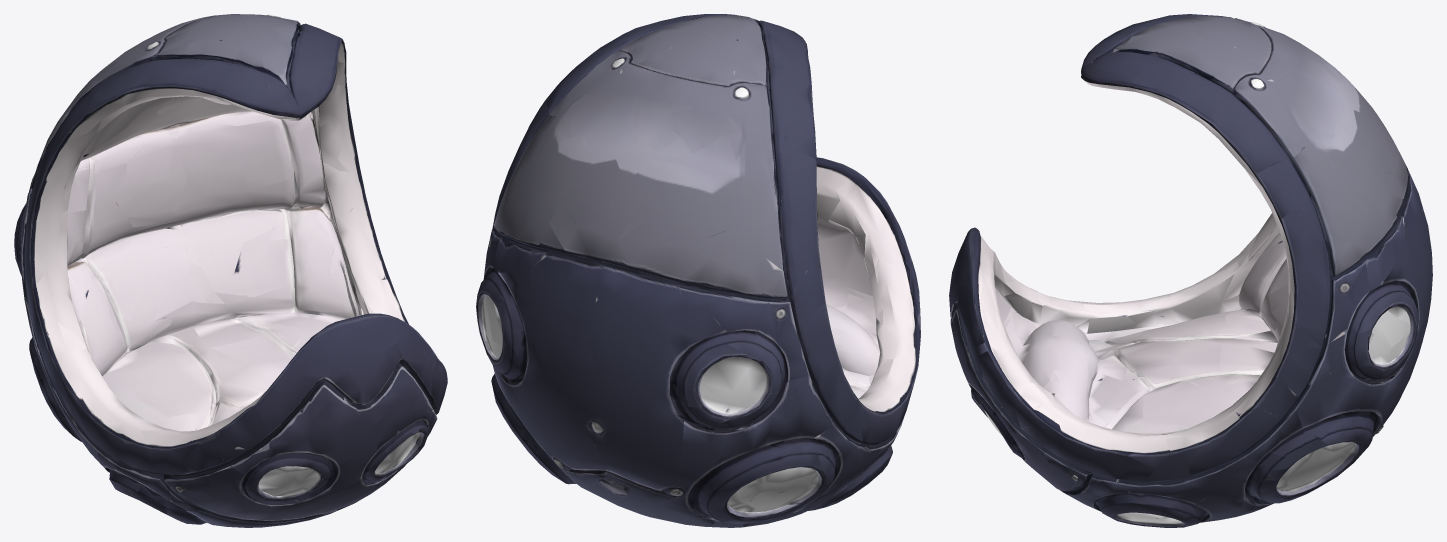
Rendered from id-mount.fbx.
3 renders of one model, left to right at view 1: azimuth 30°, elevation 25°; view 2: azimuth 150°, elevation 25°; view 3: azimuth 270°, elevation 25°, orthographic. The views are drawn at different scales.
Visible parts, largest first — view 1: id_mount; view 2: id_mount; view 3: id_mount.
Boxes of the visible parts, x1,y1,x2,y2 form: id_mount: (14,14,447,527); id_mount: (476,14,920,527); id_mount: (949,14,1432,527).
Size of the model in its own units: 98.81 by 130 by 122.
Materials: 1 (1 with a texture image).
